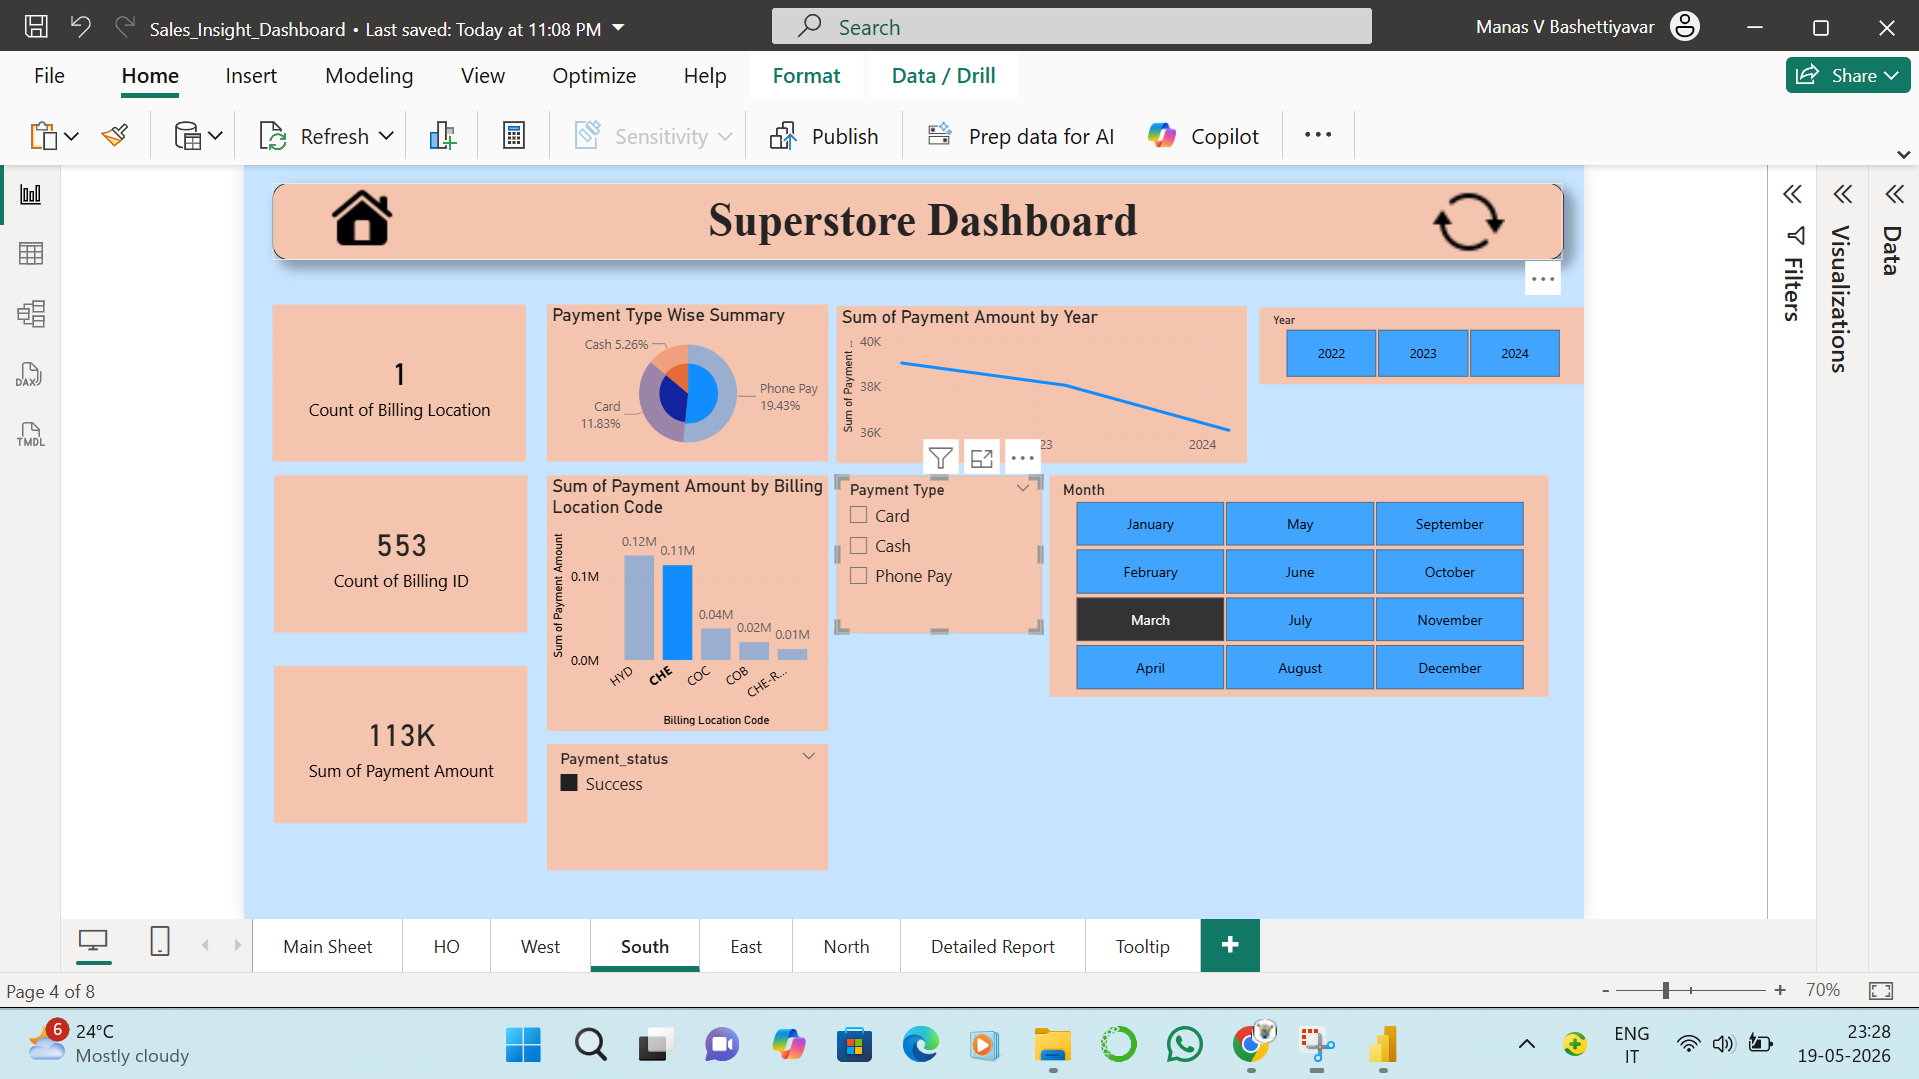

What the dashboard file says about the page in this screenshot:
{"tool":"powerbi","page":{"name":"South","canvas":[1280,720],"ordinal":3},"visuals":[{"type":"textbox","box":[26.6,17.2,1233.2,73.5],"z":0},{"type":"card","fields":{"Values":["Count(Sales Data.Billing Location)"]},"box":[26.6,132.9,242.3,150],"z":1000},{"type":"card","fields":{"Values":["Count(Sales Data.Billing ID)"]},"box":[28.1,297,242.3,150],"z":2000},{"type":"card","fields":{"Values":["Sum(Sales Data.Payment Amount)"]},"box":[28.1,478.3,242.3,150],"z":3000},{"type":"clusteredColumnChart","fields":{"Y":["Sum(Sales Data.Payment Amount)"],"Category":["Location Data.Billing Location Code"]},"box":[289.2,297,268.8,243.8],"z":4000},{"type":"lineChart","fields":{"Y":["Sum(Sales Data.Payment Amount)"],"Category":["Sales Data.Bill Timing.Variation.Date Hierarchy.Year"]},"box":[565.8,134.4,392.3,150],"z":5000},{"type":"pieChart","title":"Payment Type Wise Summary","fields":{"Category":["Sales Data.Payment Type"],"Y":["Sum(Sales Data.Payment Amount)"]},"box":[289.2,132.9,268.8,150],"z":6000},{"type":"slicer","fields":{"Values":["Sales Data.Payment Type"]},"box":[565.8,297,196.9,150],"z":7000},{"type":"slicer","fields":{"Values":["Sales Data.Payment_status"]},"box":[289.2,553.3,268.8,120.4],"z":8000},{"type":"slicer","fields":{"Values":["Sales Data.Bill Timing.Variation.Date Hierarchy.Year"]},"box":[969.1,134.4,311,73.5],"z":9000},{"type":"slicer","fields":{"Values":["Sales Data.Bill Timing.Variation.Date Hierarchy.Month"]},"box":[769,297,476.7,211],"z":10000},{"type":"image","box":[64.1,14.1,96.9,76.6],"z":11000},{"type":"image","box":[1125.4,20.3,87.5,68.8],"z":12000}]}

Visuals, with their boxes on the page's 1280x720 design canvas (x1, y1, x2, y2). These are canvas units, not pixel positions in the 1919x1079 screenshot, which may show the page scaled, cropped or inside an application window:
textbox: BBox(27, 17, 1260, 91)
card - Count(Sales Data.Billing Location): BBox(27, 133, 269, 283)
card - Count(Sales Data.Billing ID): BBox(28, 297, 270, 447)
card - Sum(Sales Data.Payment Amount): BBox(28, 478, 270, 628)
clusteredColumnChart - Sum(Sales Data.Payment Amount) x Location Data.Billing Location Code: BBox(289, 297, 558, 541)
lineChart - Sum(Sales Data.Payment Amount) x Sales Data.Bill Timing.Variation.Date Hierarchy.Year: BBox(566, 134, 958, 284)
"Payment Type Wise Summary" pieChart: BBox(289, 133, 558, 283)
slicer - Sales Data.Payment Type: BBox(566, 297, 763, 447)
slicer - Sales Data.Payment_status: BBox(289, 553, 558, 674)
slicer - Sales Data.Bill Timing.Variation.Date Hierarchy.Year: BBox(969, 134, 1280, 208)
slicer - Sales Data.Bill Timing.Variation.Date Hierarchy.Month: BBox(769, 297, 1246, 508)
image: BBox(64, 14, 161, 91)
image: BBox(1125, 20, 1213, 89)
